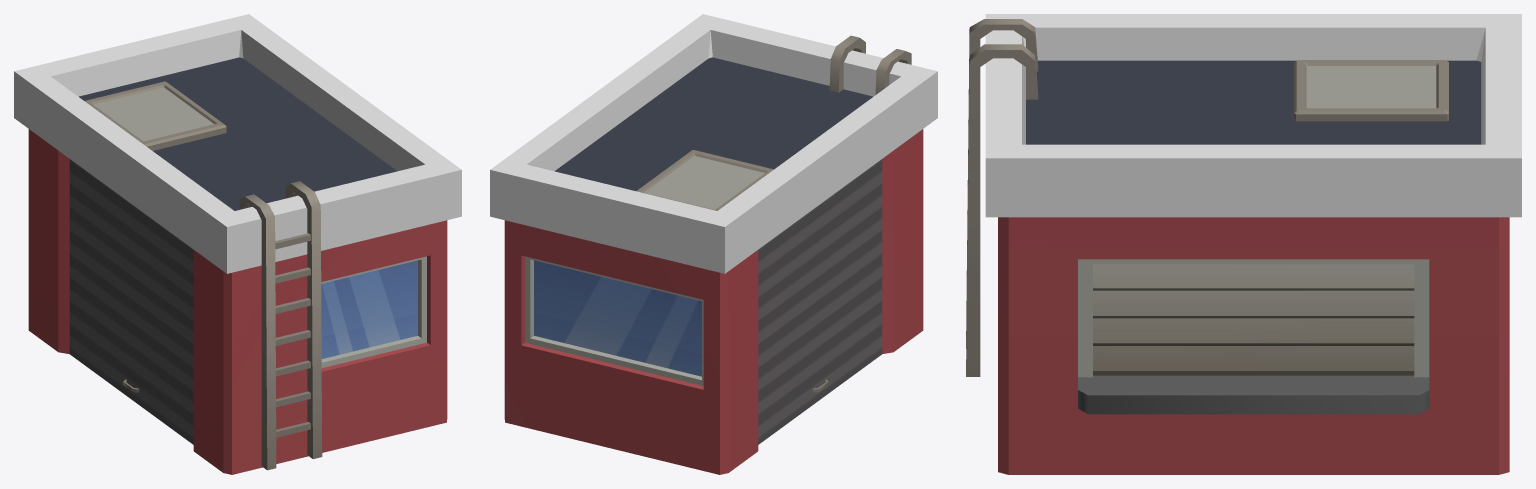
File: Kiosk_1_D.fbx
3 renders of one model, left to right at view 1: azimuth 30°, elevation 25°; view 2: azimuth 150°, elevation 25°; view 3: azimuth 270°, elevation 25°, orthographic. The views are drawn at different scales.
Parts seen in each view (by area): view 1: Kiosk_1_D; view 2: Kiosk_1_D; view 3: Kiosk_1_D.
Part boxes in pixels (<box>): Kiosk_1_D: <box>14,14,461,474</box>; Kiosk_1_D: <box>490,14,937,474</box>; Kiosk_1_D: <box>966,14,1521,474</box>.
Size of the model in its own units: 297 by 304 by 454.
